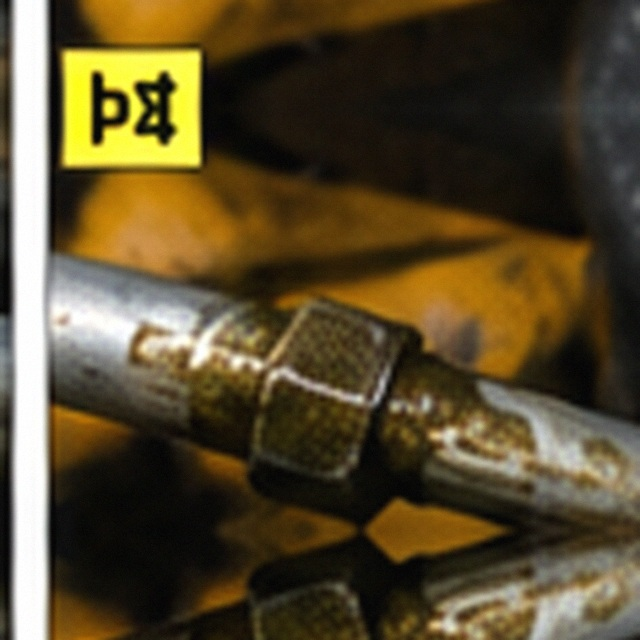hydraulic_oil_leak: (193, 183, 479, 458)
